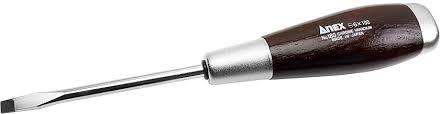screwdriver: (0, 0, 439, 111)
